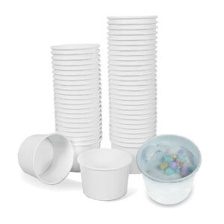paper_cup: (104, 11, 160, 176), (46, 37, 105, 175), (133, 130, 205, 208), (11, 128, 77, 189), (74, 144, 134, 203)
